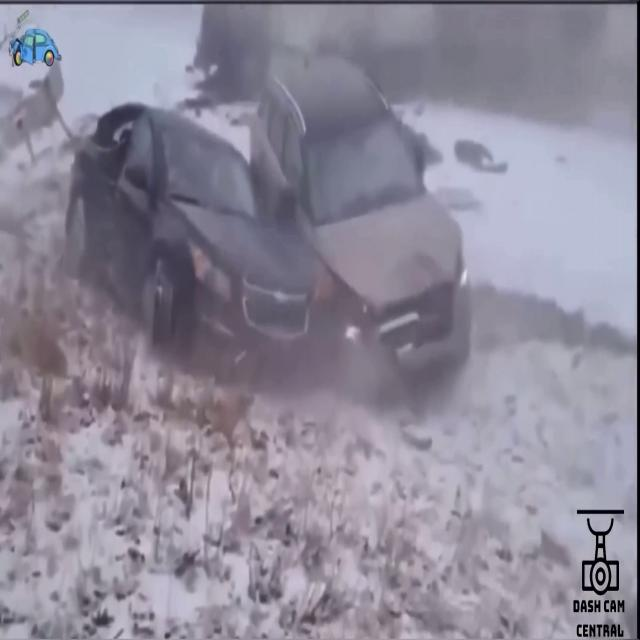accident: (66, 67, 476, 397)
